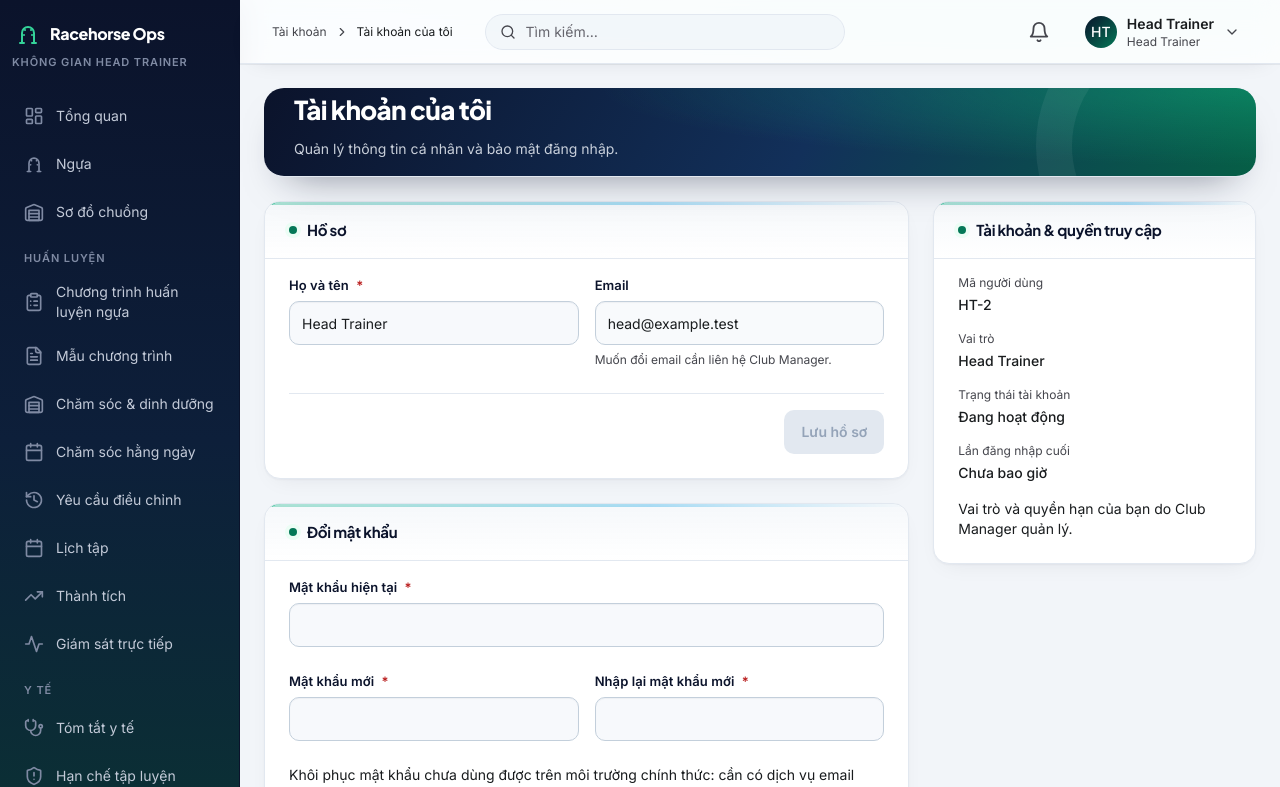
it: retains profile input when saving fails without showing success
The image size is (1280, 787).
Replace the text in the field labelled "Họ và tên" with "Draft name" at (434, 323), box top-left (289, 301), bottom-right (579, 345)
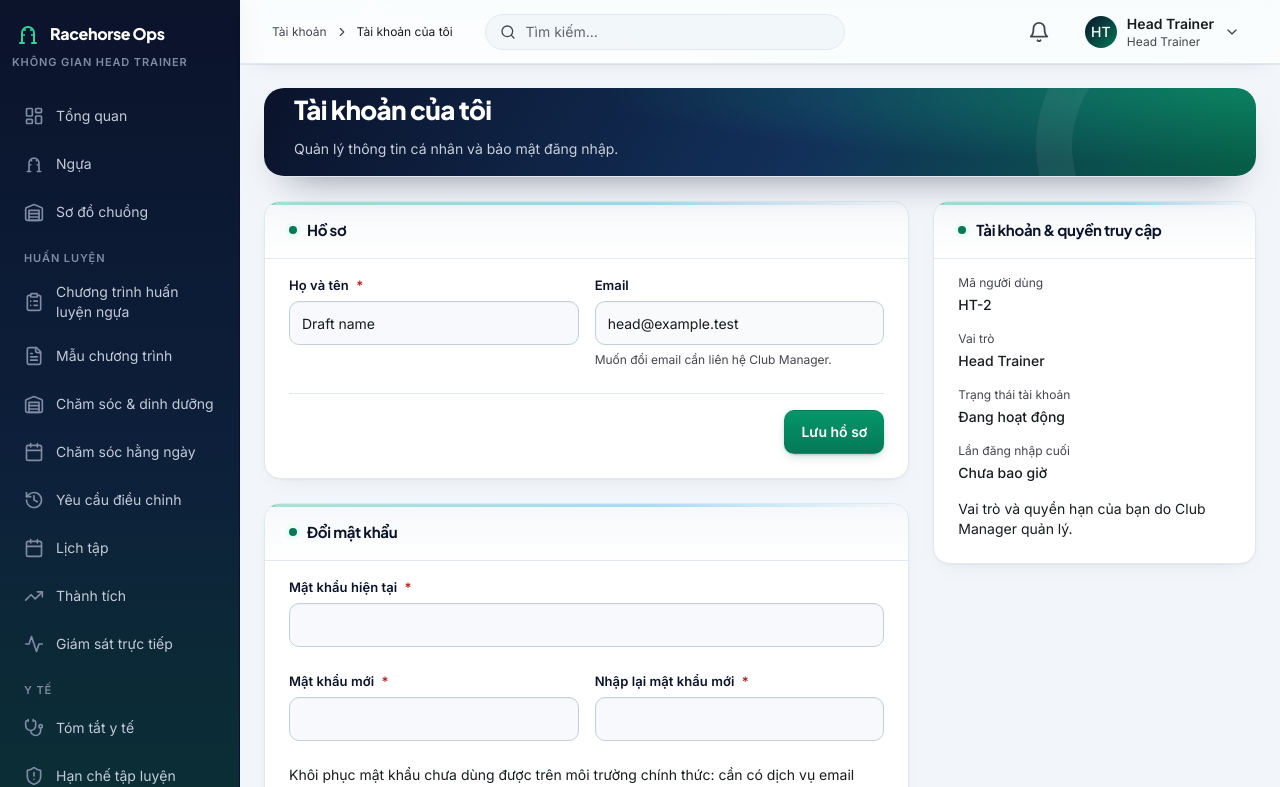
Click the button "Lưu hồ sơ" at (834, 432), box top-left (784, 410), bottom-right (884, 454)
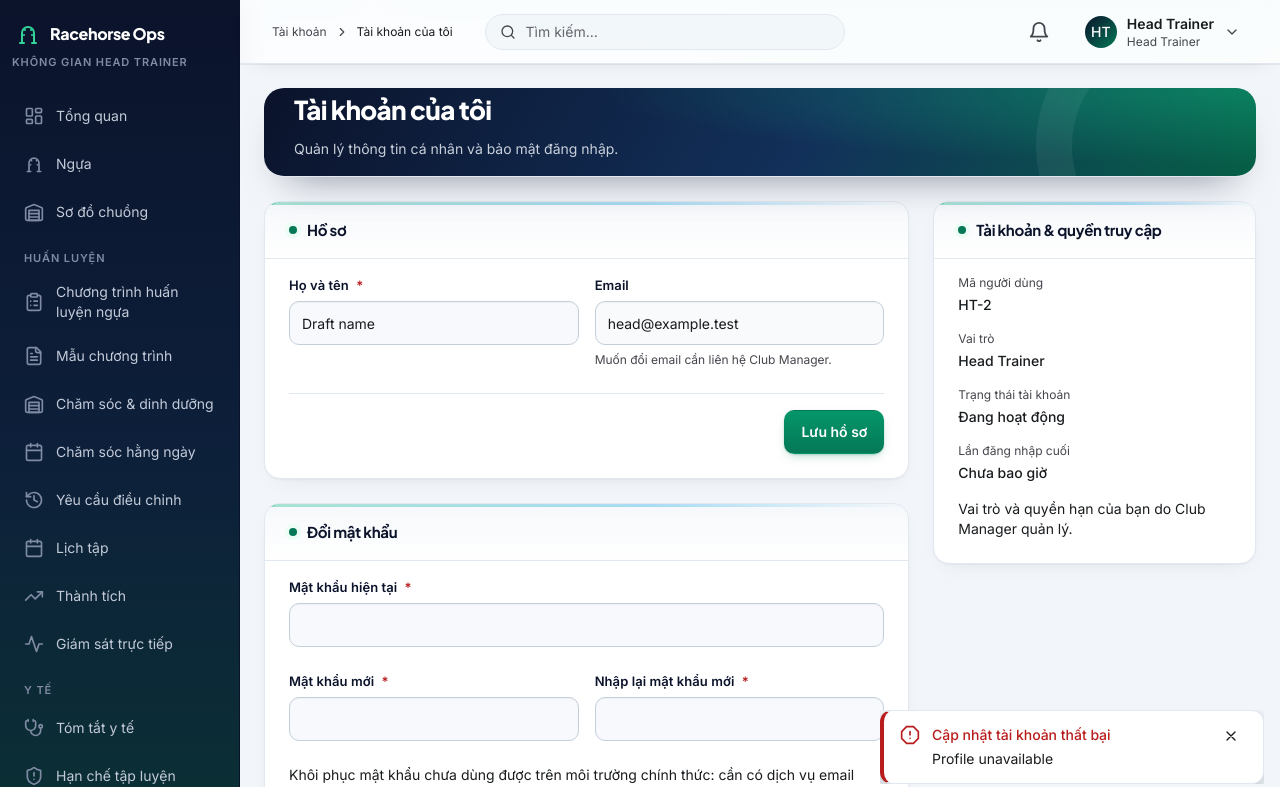
expect the text "Profile unavailable" is shown: met, box top-left (932, 750), bottom-right (1053, 767)
